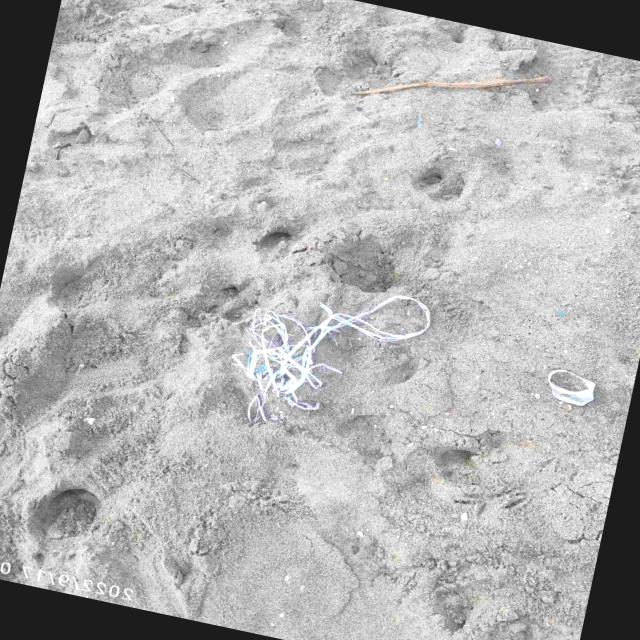nhua: (231, 295, 431, 423), (548, 369, 596, 406)
